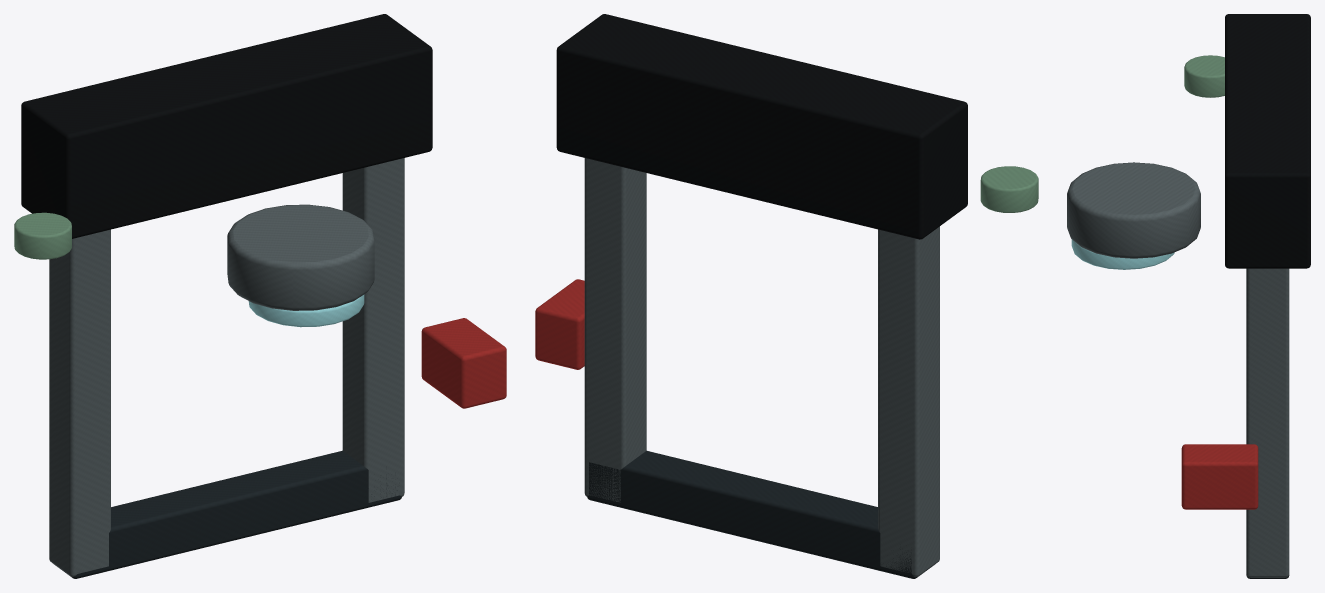
The model's file is DeconShower.glb.
3 renders of one model, left to right at view 1: azimuth 30°, elevation 25°; view 2: azimuth 150°, elevation 25°; view 3: azimuth 270°, elevation 25°, orthographic. The views are drawn at different scales.
Parts seen in each view (by area): view 1: DeconShower_Mesh; view 2: DeconShower_Mesh; view 3: DeconShower_Mesh.
Boxes of the visible parts, x1,y1,x2,y2 form: DeconShower_Mesh: [14, 14, 506, 578]; DeconShower_Mesh: [535, 14, 1038, 578]; DeconShower_Mesh: [1067, 14, 1310, 578].
Bounding box in the file's own units: 1.03 × 0.955 × 0.51.
Materials: 6 (6 with a texture image).
